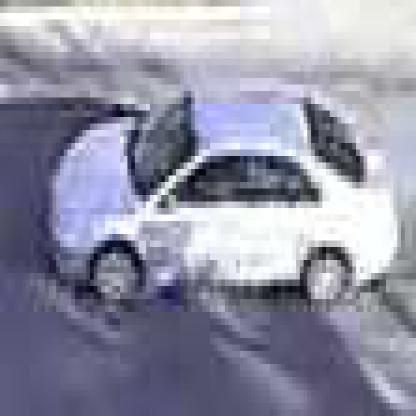car: (50, 99, 398, 307)
